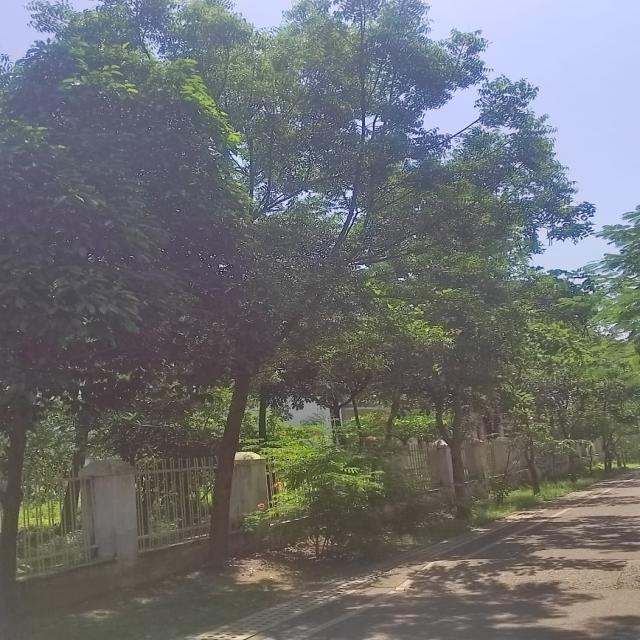Neem Tree: (250, 31, 547, 407)
